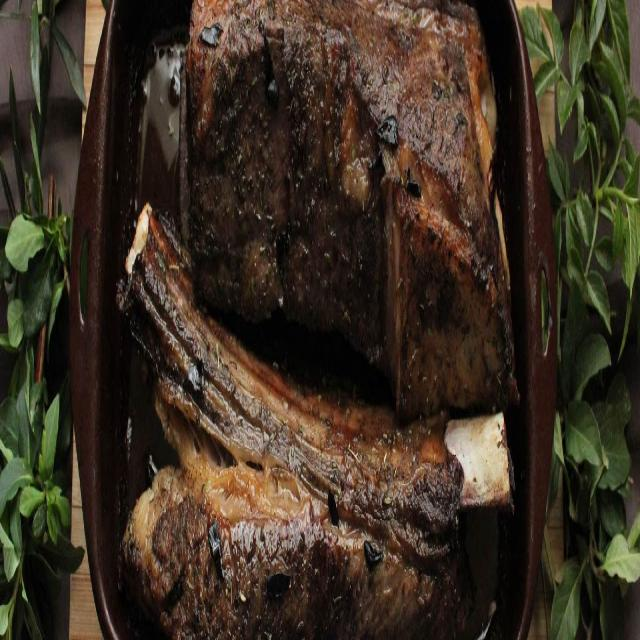carne de cerdo: (115, 8, 521, 632)
